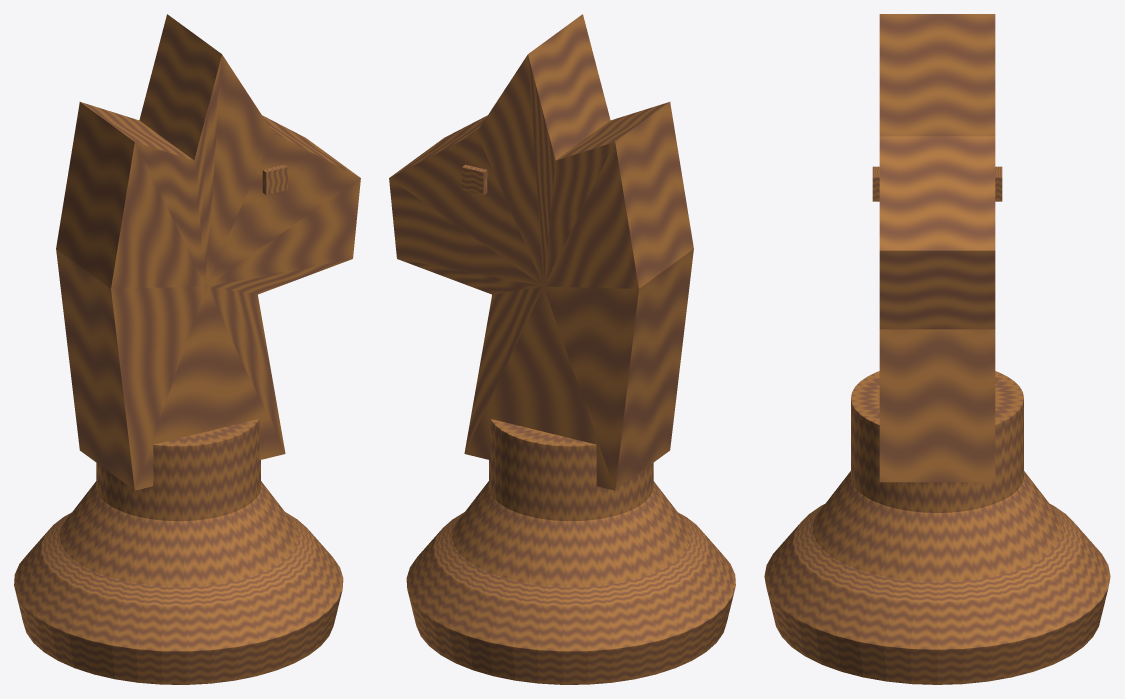
The model's file is knight_ebony.obj.
3 renders of one model, left to right at view 1: azimuth 30°, elevation 25°; view 2: azimuth 150°, elevation 25°; view 3: azimuth 270°, elevation 25°, orthographic. The views are drawn at different scales.
Size of the model in its own units: 0.75 by 1.4 by 0.72.
2 materials, 2 textured.
